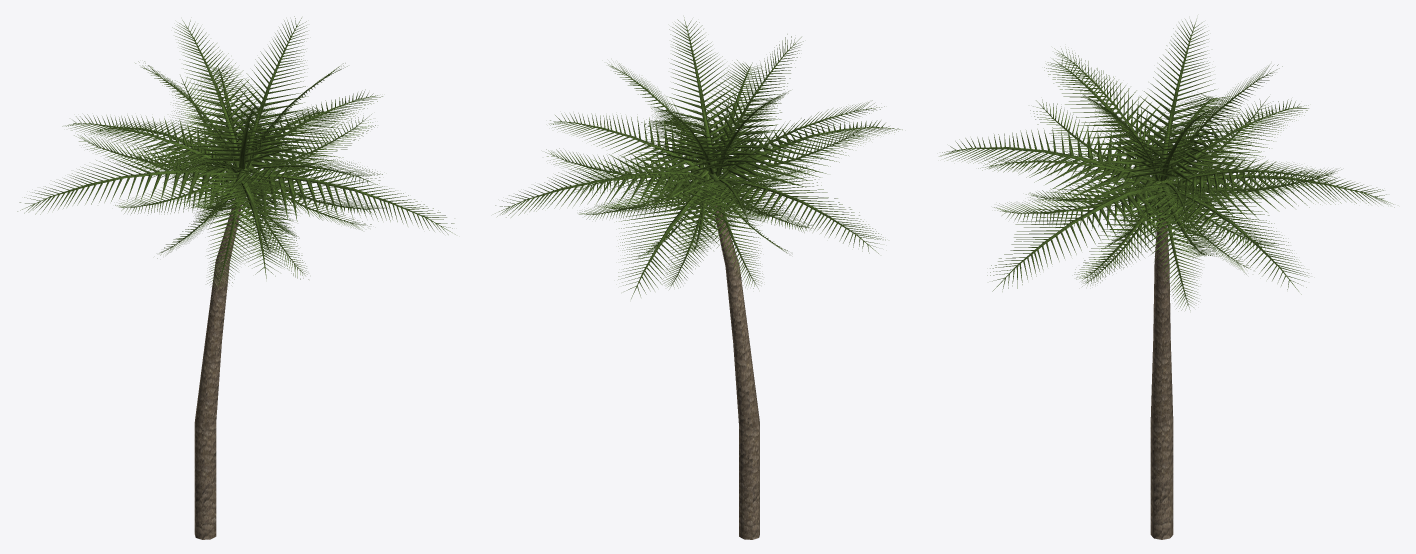
File: PalmTall.fbx
3 renders of one model, left to right at view 1: azimuth 30°, elevation 25°; view 2: azimuth 150°, elevation 25°; view 3: azimuth 270°, elevation 25°, orthographic. The views are drawn at different scales.
Parts seen in each view (by area): view 1: Cylinder001; view 2: Cylinder001; view 3: Cylinder001.
Boxes of the visible parts, x1,y1,x2,y2 form: Cylinder001: (17,16,455,539); Cylinder001: (495,17,902,539); Cylinder001: (939,19,1394,539).
Bounding box in the file's own units: 40.27 × 50.28 × 43.08.
